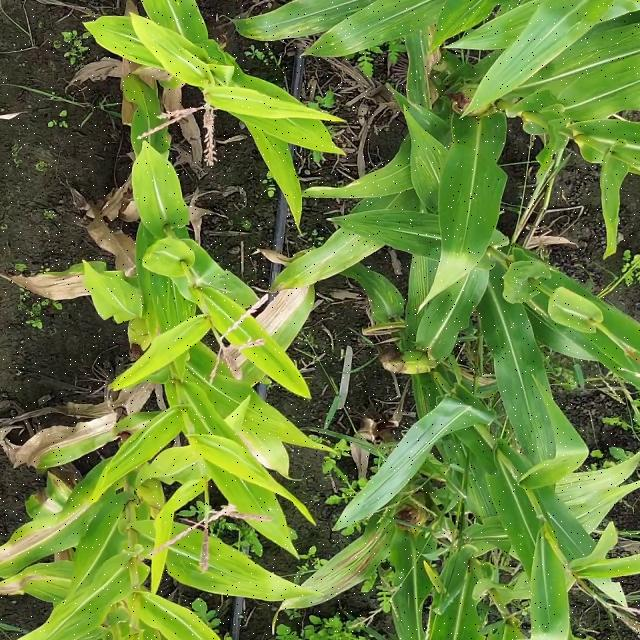gray-leaf-spot: (318, 241, 448, 315), (410, 146, 485, 244), (148, 291, 252, 347)
northern-leaf-blight: (303, 520, 401, 640)
southern-leaf-blight: (396, 37, 476, 128), (500, 401, 580, 471)
